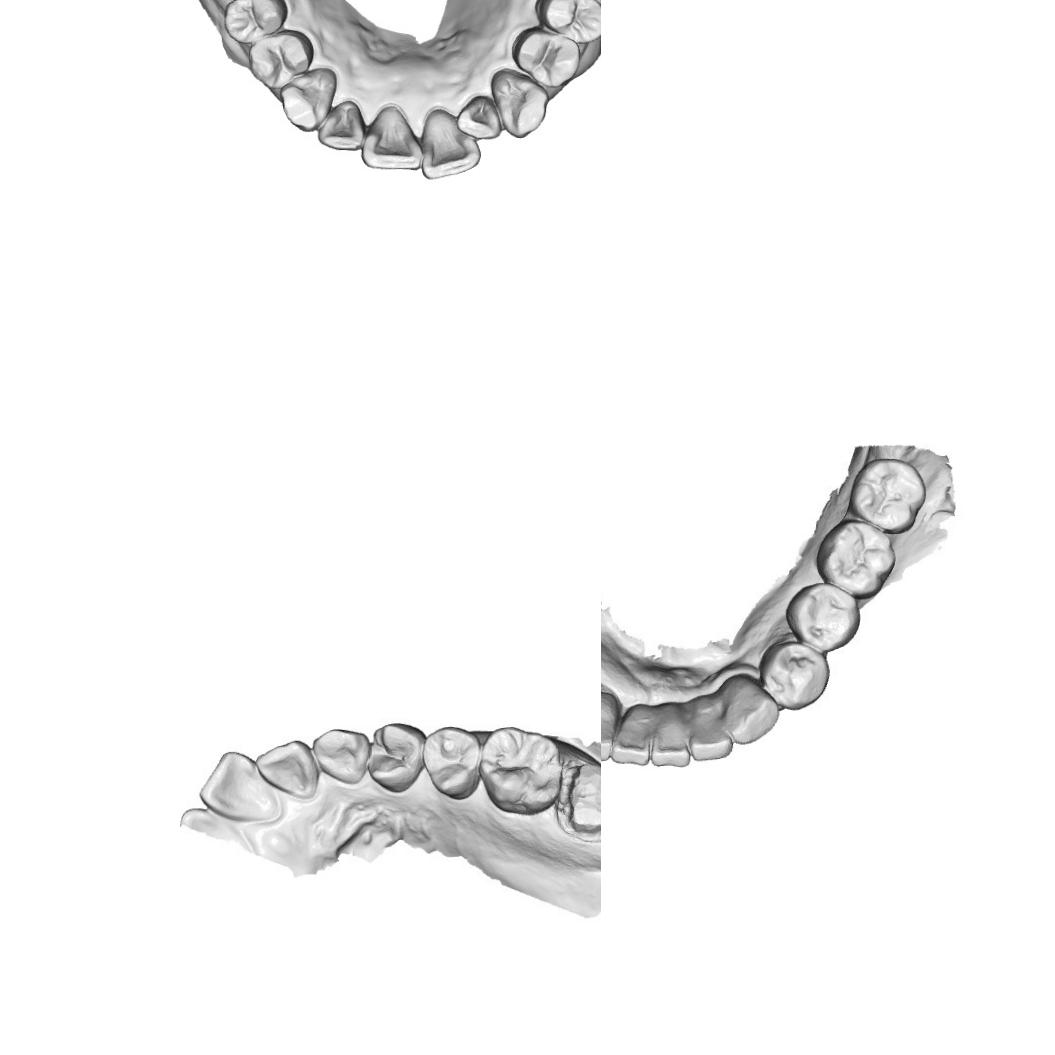canine: (489, 67, 550, 139), (278, 66, 339, 134), (722, 674, 778, 747), (312, 727, 372, 787)
crown: (559, 759, 601, 841)
incisor: (198, 749, 280, 824), (419, 106, 482, 181), (360, 103, 424, 172), (253, 739, 320, 800), (684, 695, 734, 758), (316, 98, 367, 152), (653, 699, 692, 765), (616, 699, 654, 764), (454, 92, 502, 142), (601, 689, 620, 755)
molar: (476, 724, 562, 816), (820, 523, 896, 598), (852, 459, 924, 534)
premolar: (786, 580, 865, 653), (762, 638, 834, 712), (510, 24, 582, 90), (420, 725, 482, 801), (366, 721, 428, 794), (246, 27, 316, 91), (221, 0, 289, 44), (533, 0, 601, 43)
